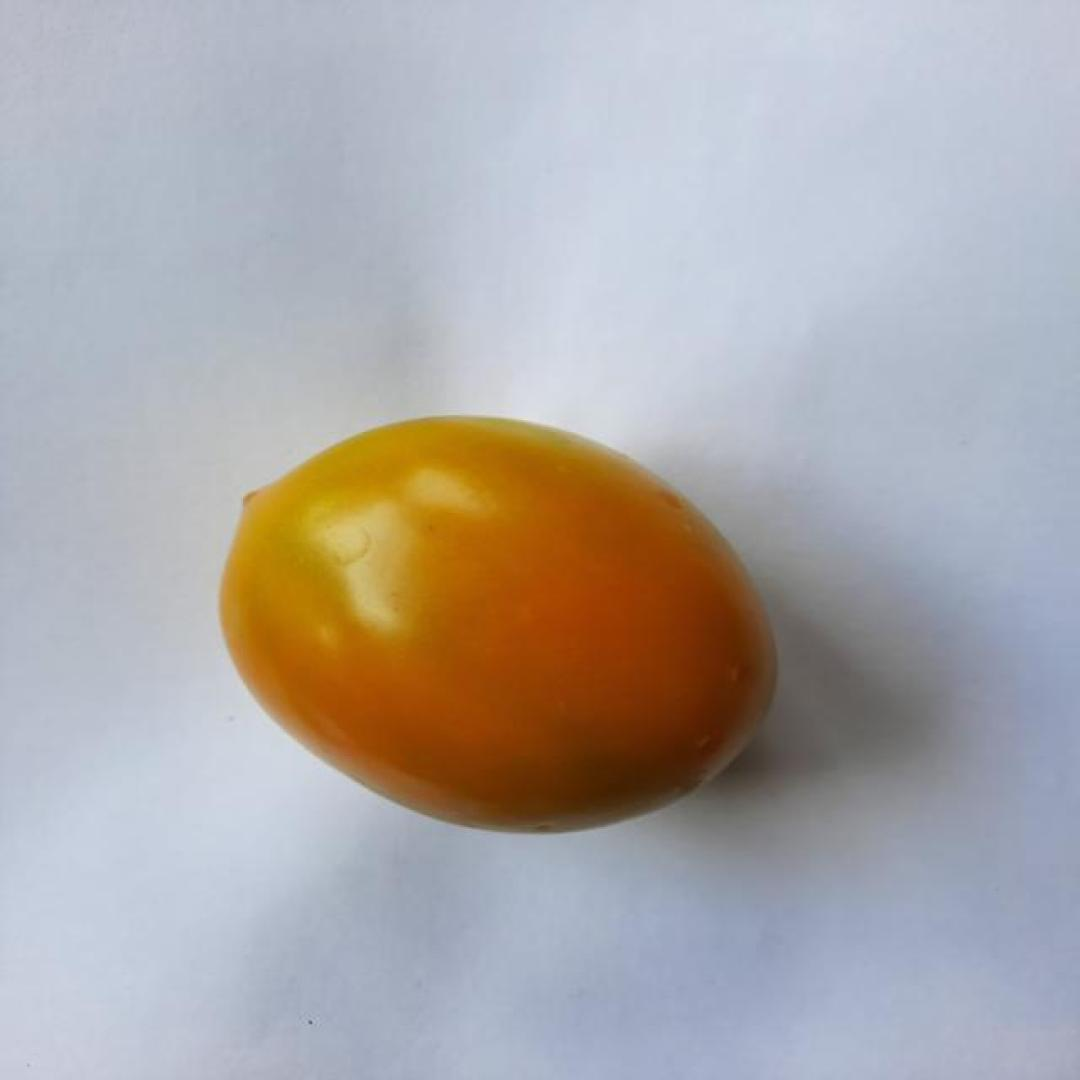setengah_matang: (210, 410, 786, 837)
